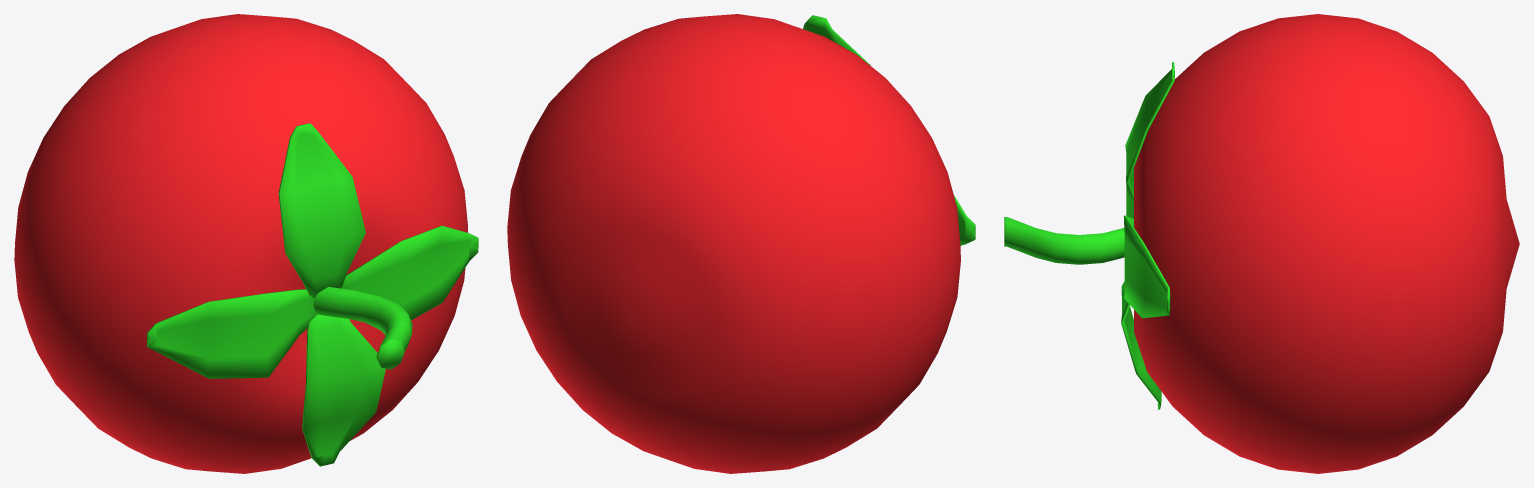
File: tomat utuh.fbx
The picture shows the model from 3 angles, left to right: view 1: azimuth 30°, elevation 25°; view 2: azimuth 150°, elevation 25°; view 3: azimuth 270°, elevation 25°; orthographic projection.
Visible parts, largest first — view 1: tomat utuh; view 2: tomat utuh; view 3: tomat utuh.
Boxes of the visible parts, x1,y1,x2,y2 form: tomat utuh: (14, 14, 478, 473); tomat utuh: (507, 14, 975, 473); tomat utuh: (1004, 14, 1519, 473).
Bounding box in the file's own units: 99.6 × 99.6 × 112.
